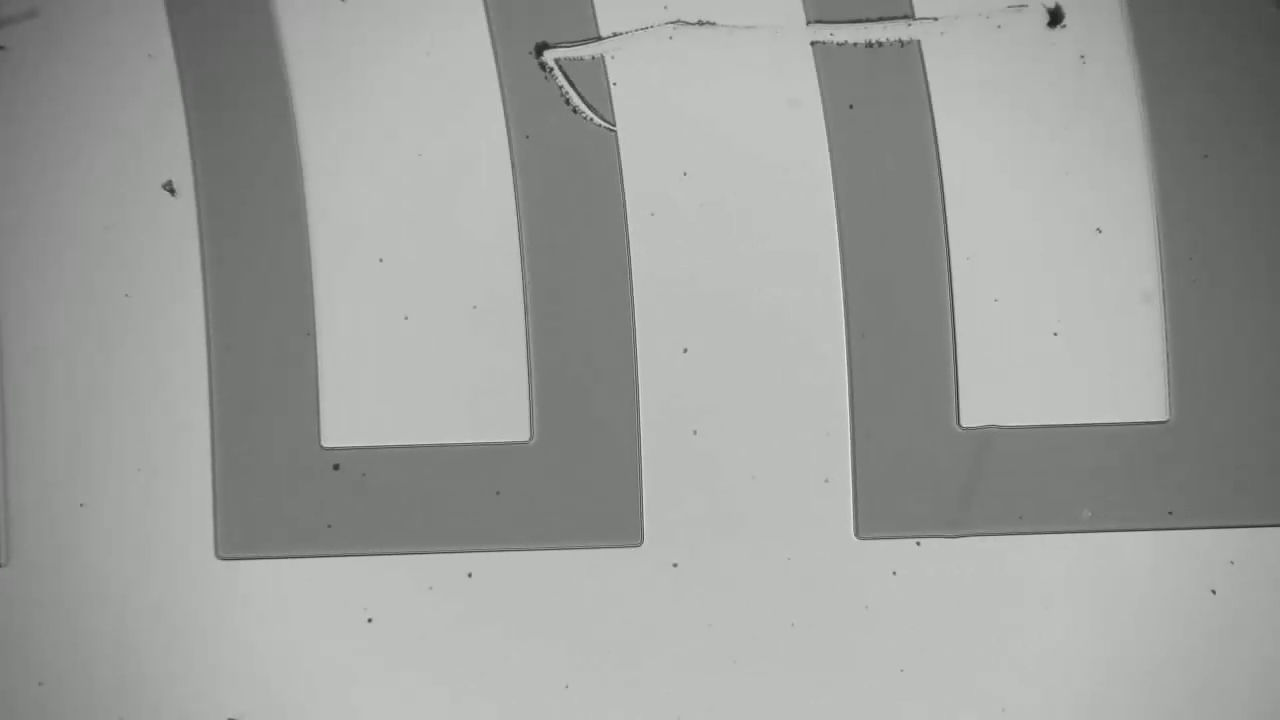Short_circuit: (477, 6, 627, 90), (793, 10, 940, 69)
